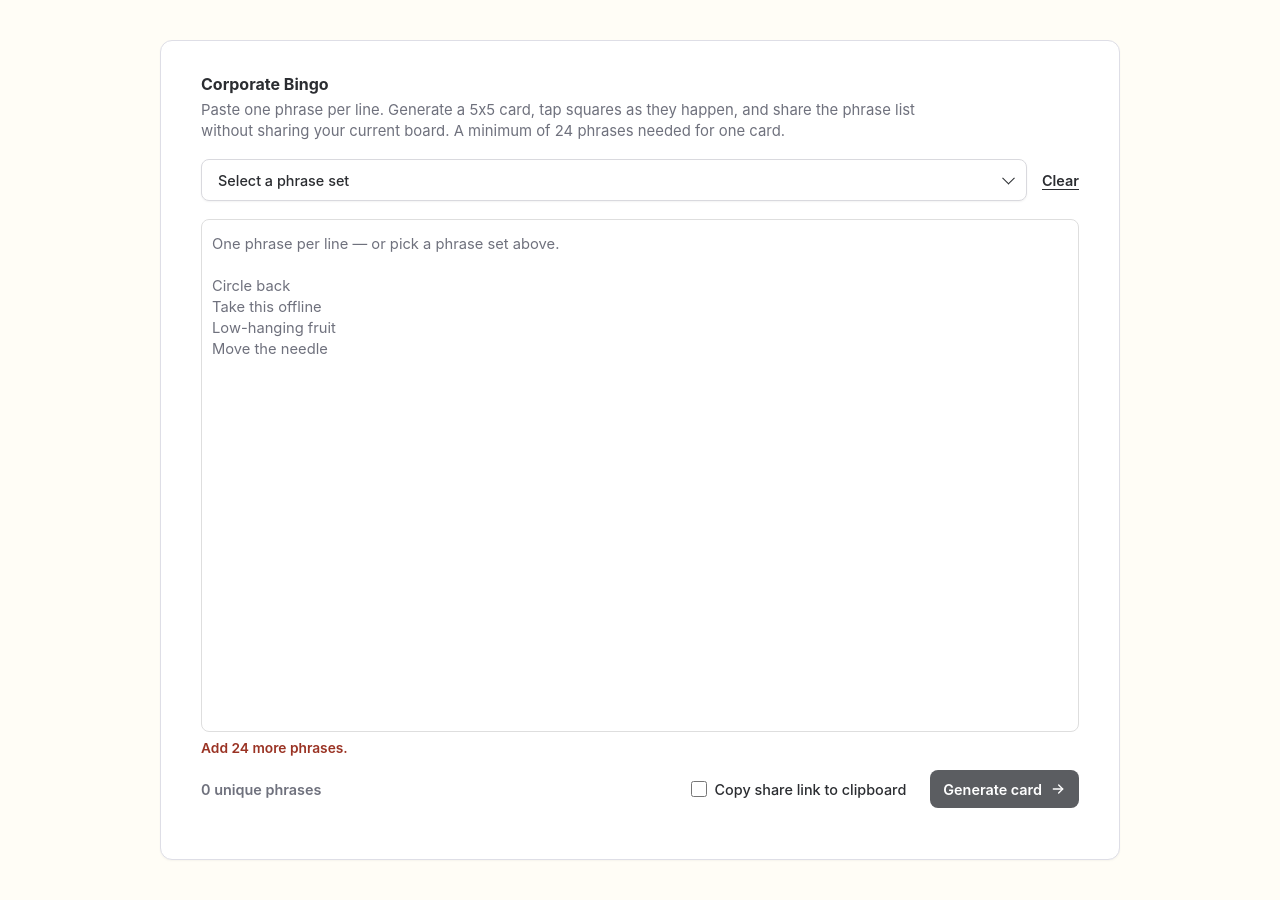
Test: App two-step flow › applies a preset phrase set from the phrase entry page
Select "AI company" in the dropdown named "Phrase set": (614, 180) [201,159,1027,201]
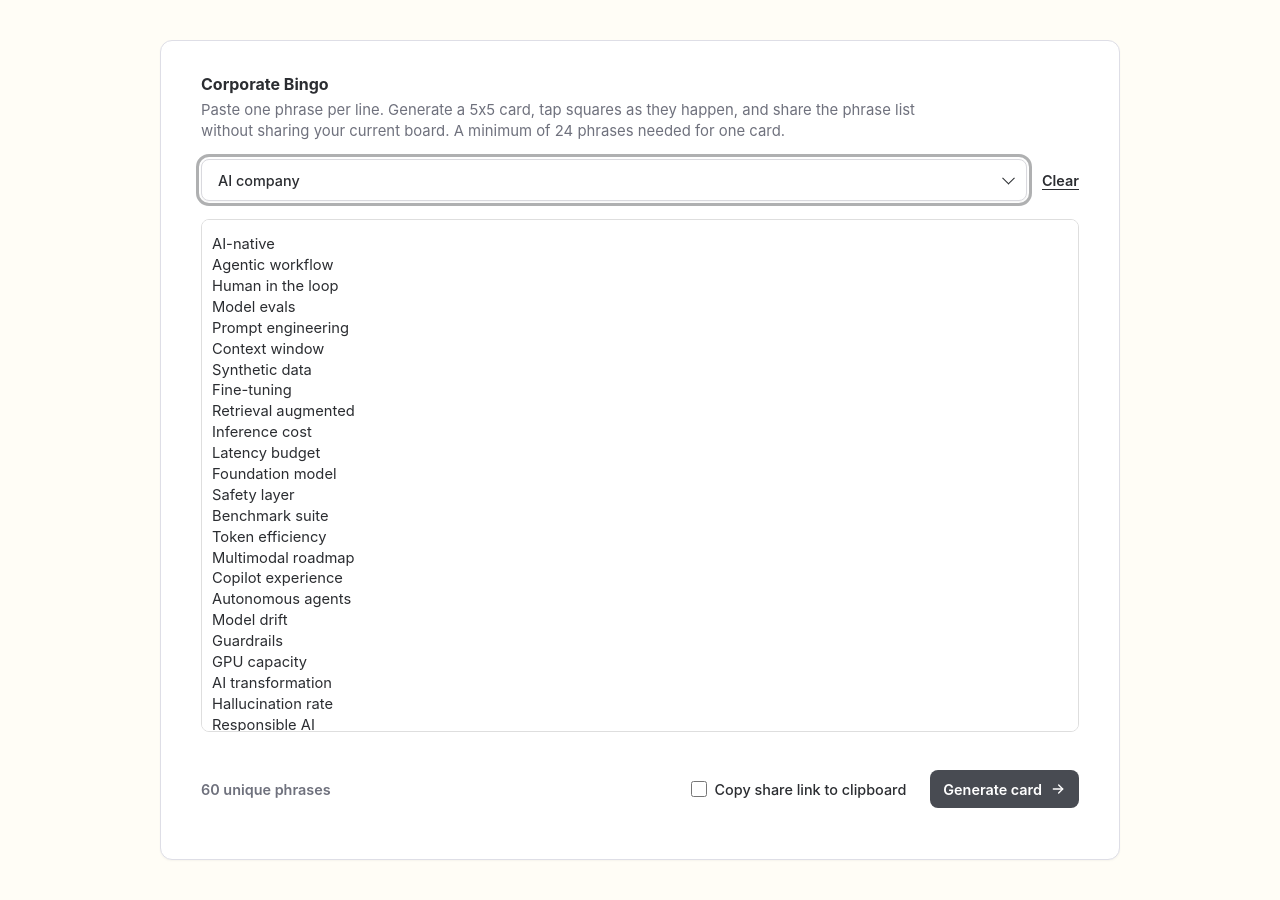
Expected: the button "Generate card" is enabled, [930,770,1079,808]
Expected: the text "60 unique phrases" is shown, [201,780,331,798]
